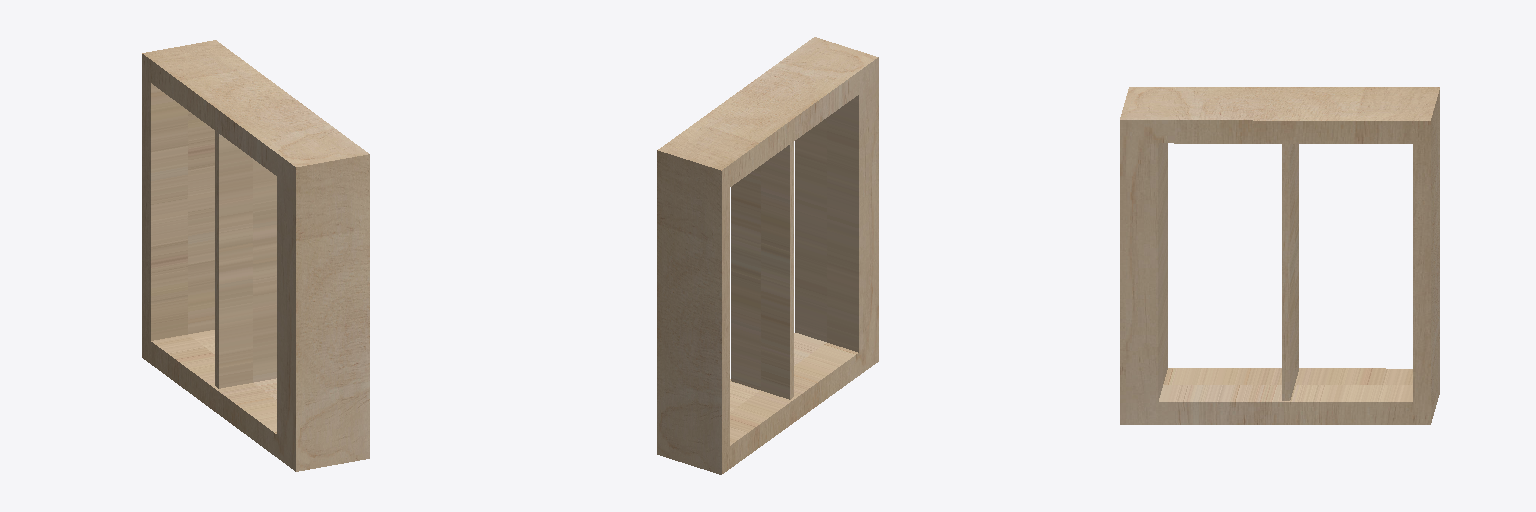
3 views of the same model, side by side, from view 1: azimuth 30°, elevation 25°; view 2: azimuth 150°, elevation 25°; view 3: azimuth 270°, elevation 25° (orthographic).
Parts seen in each view (by area): view 1: Moda_Collection3:G_Moda_CoffeeTable group23; view 2: Moda_Collection3:G_Moda_CoffeeTable group23; view 3: Moda_Collection3:G_Moda_CoffeeTable group23.
Part boxes in pixels (x1,y1,x2,y2): Moda_Collection3:G_Moda_CoffeeTable group23: (142, 40, 369, 471); Moda_Collection3:G_Moda_CoffeeTable group23: (657, 37, 878, 474); Moda_Collection3:G_Moda_CoffeeTable group23: (1120, 87, 1439, 424).
Size of the model in its own units: 0.5401 by 2.23 by 2.13.
Materials: 1 (1 with a texture image).